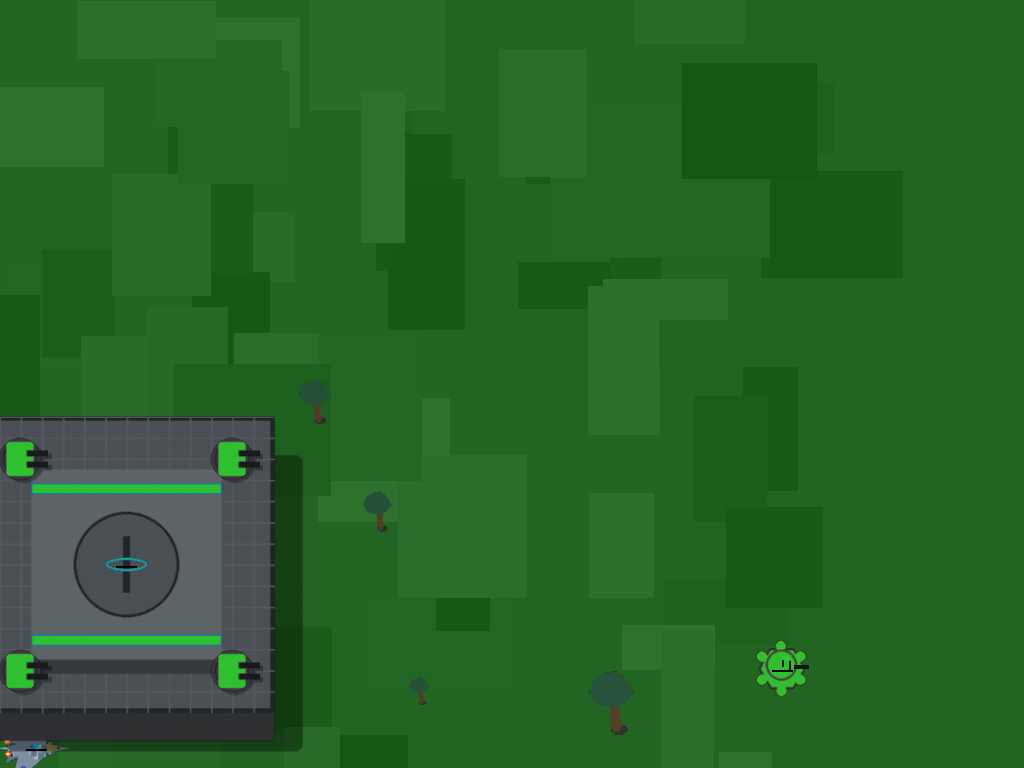APC_chn: (751, 639, 804, 700)
FighterJet_usa: (0, 389, 350, 739)
RocketTrooper: (16, 728, 56, 768)
